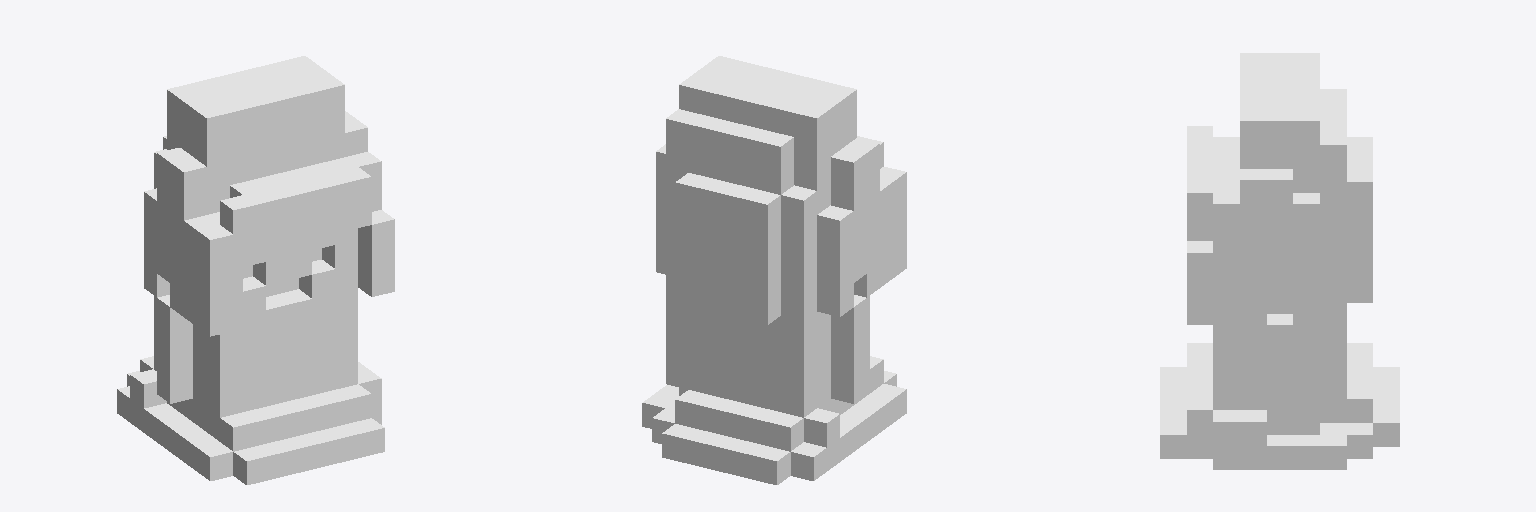
The model's file is griefMaster.obj.
3 renders of one model, left to right at view 1: azimuth 30°, elevation 25°; view 2: azimuth 150°, elevation 25°; view 3: azimuth 270°, elevation 25°, orthographic.
Parts seen in each view (by area): view 1: griefMaster; view 2: griefMaster; view 3: griefMaster.
Part boxes in pixels (bbox=[...]): griefMaster: bbox=[117, 56, 394, 484]; griefMaster: bbox=[642, 56, 906, 484]; griefMaster: bbox=[1160, 53, 1399, 469].
Size of the model in its own units: 8 by 14 by 9.